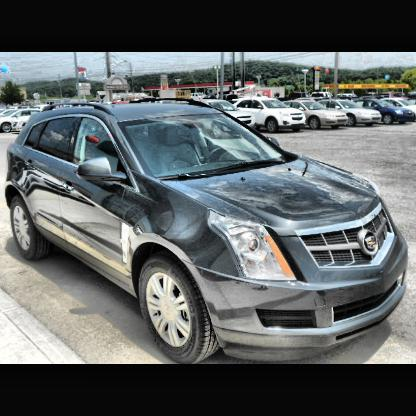Cadillac SRX SUV 2012: (8, 104, 408, 364)
